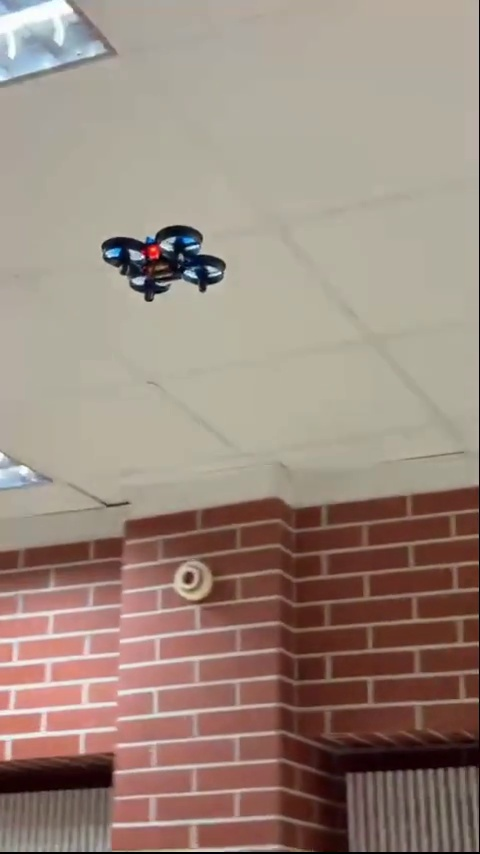drone: (97, 223, 227, 300)
